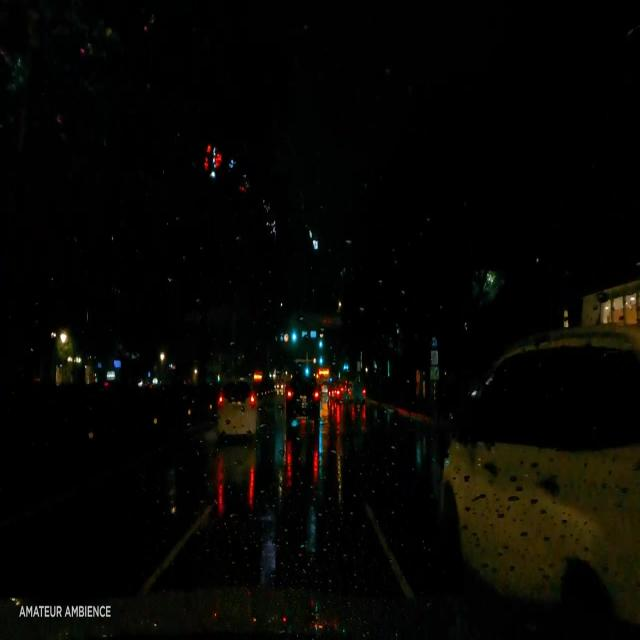Car: (440, 328, 637, 623), (215, 378, 256, 441), (284, 364, 319, 423)
